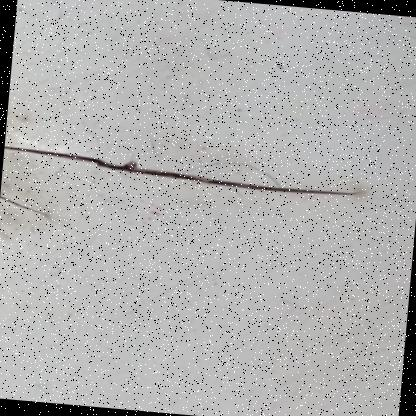Crack: (0, 102, 382, 290)
